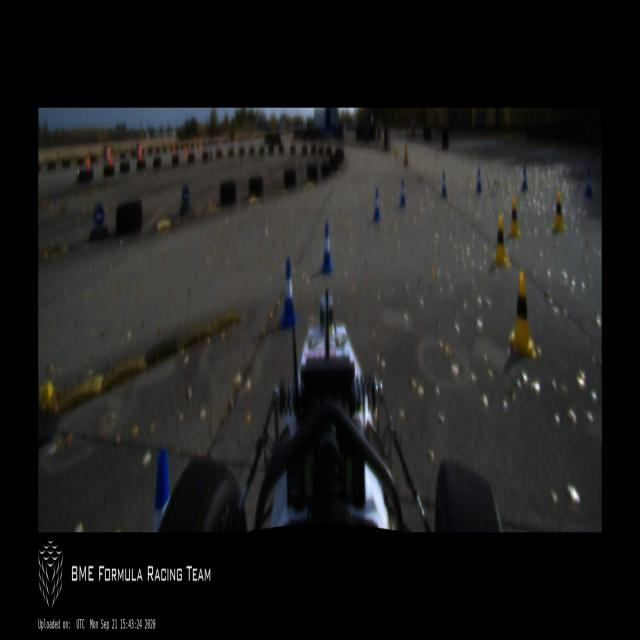blue_cone: (281, 258, 296, 328), (322, 222, 332, 272), (374, 188, 380, 221), (400, 179, 406, 207), (586, 170, 592, 198), (476, 170, 482, 192), (442, 172, 446, 196), (522, 168, 526, 190)
yellow_cone: (509, 272, 536, 358), (494, 214, 508, 267), (509, 198, 520, 237), (554, 192, 564, 231)
